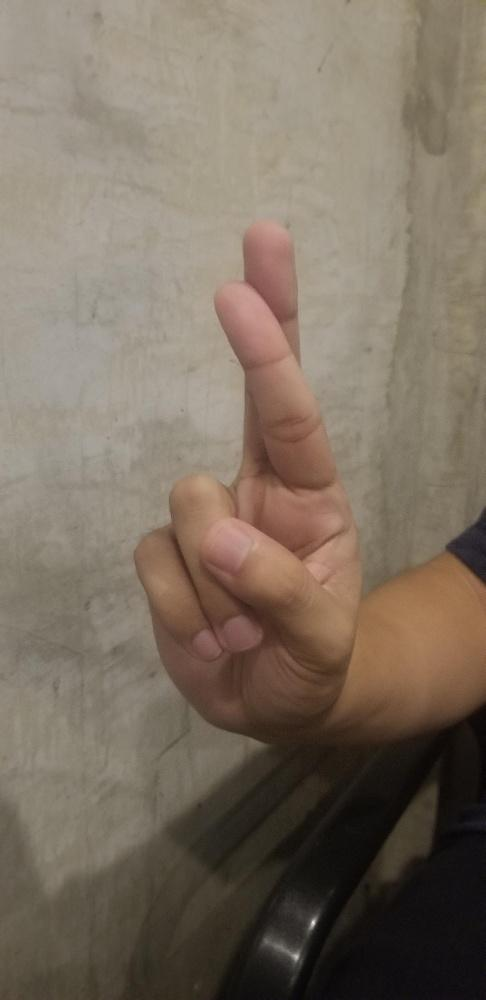r: (130, 219, 366, 737)
